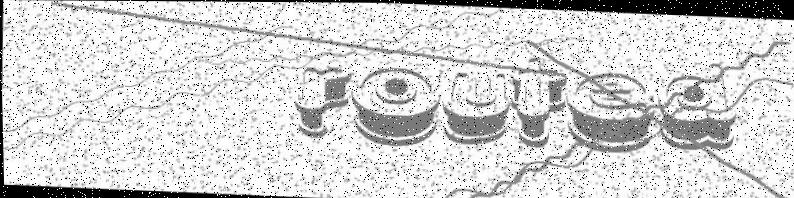d: (656, 61, 738, 148)
e: (565, 70, 653, 154)
o: (350, 66, 441, 147)
r: (294, 65, 353, 139)
t: (508, 56, 569, 147)
u: (440, 69, 513, 145)
